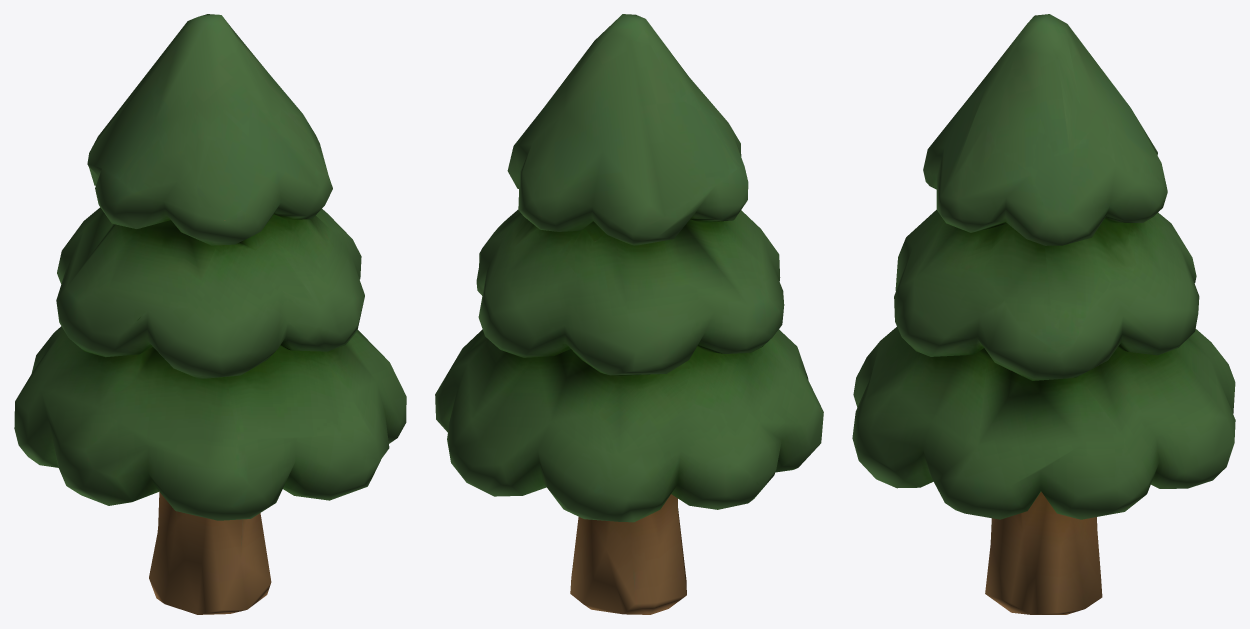
The model's file is tree-pine.glb.
The picture shows the model from 3 angles, left to right: view 1: azimuth 30°, elevation 25°; view 2: azimuth 150°, elevation 25°; view 3: azimuth 270°, elevation 25°; orthographic projection.
Visible parts, largest first — view 1: tripo_node_083fbc03-86ad-47ff-b6e3-83cf1bc5c997; view 2: tripo_node_083fbc03-86ad-47ff-b6e3-83cf1bc5c997; view 3: tripo_node_083fbc03-86ad-47ff-b6e3-83cf1bc5c997.
Part boxes in pixels (x1=…): tripo_node_083fbc03-86ad-47ff-b6e3-83cf1bc5c997: x1=14, y1=14, x2=406, y2=614; tripo_node_083fbc03-86ad-47ff-b6e3-83cf1bc5c997: x1=435, y1=14, x2=823, y2=614; tripo_node_083fbc03-86ad-47ff-b6e3-83cf1bc5c997: x1=852, y1=14, x2=1235, y2=614.
Size of the model in its own units: 0.6019 by 1 by 0.6041.
1 material, 1 textured.
